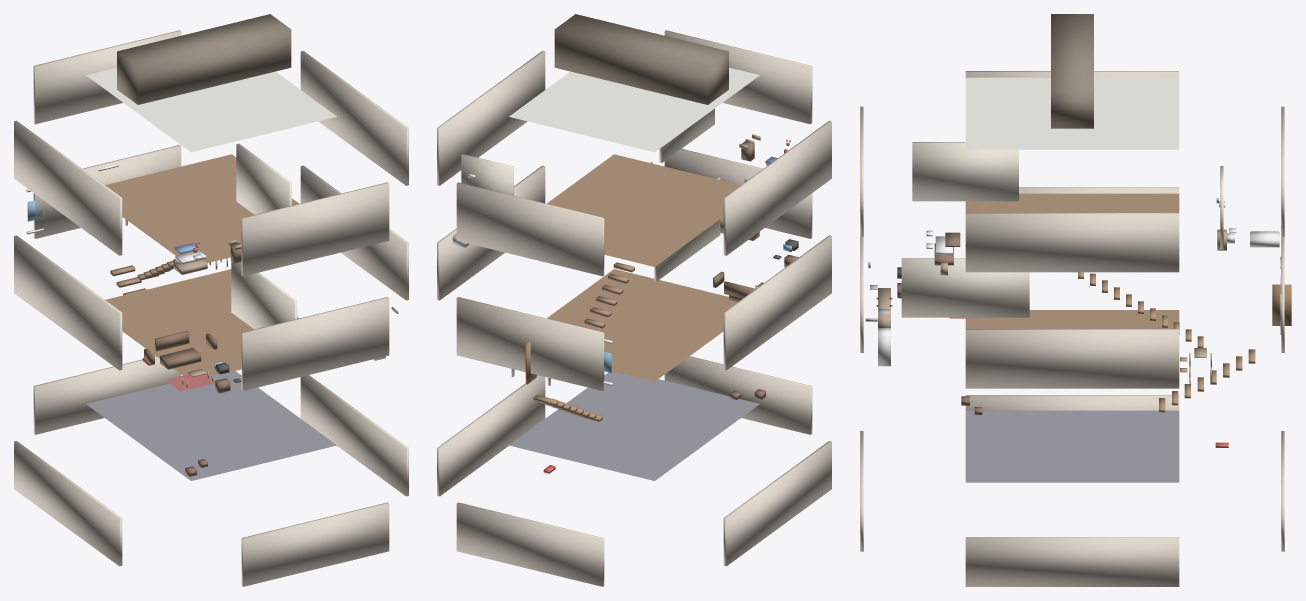
The model's file is mercer_house_final.fbx.
The picture shows the model from 3 angles, left to right: view 1: azimuth 30°, elevation 25°; view 2: azimuth 150°, elevation 25°; view 3: azimuth 270°, elevation 25°; orthographic projection.
Parts seen in each view (by area): view 1: Mercer_House; view 2: Mercer_House; view 3: Mercer_House.
Part boxes in pixels (box(x1,y1,x2,y2)): Mercer_House: box(14, 14, 408, 586); Mercer_House: box(437, 14, 831, 586); Mercer_House: box(860, 14, 1291, 586).
Size of the model in its own units: 7.93 by 11.88 by 10.09.
